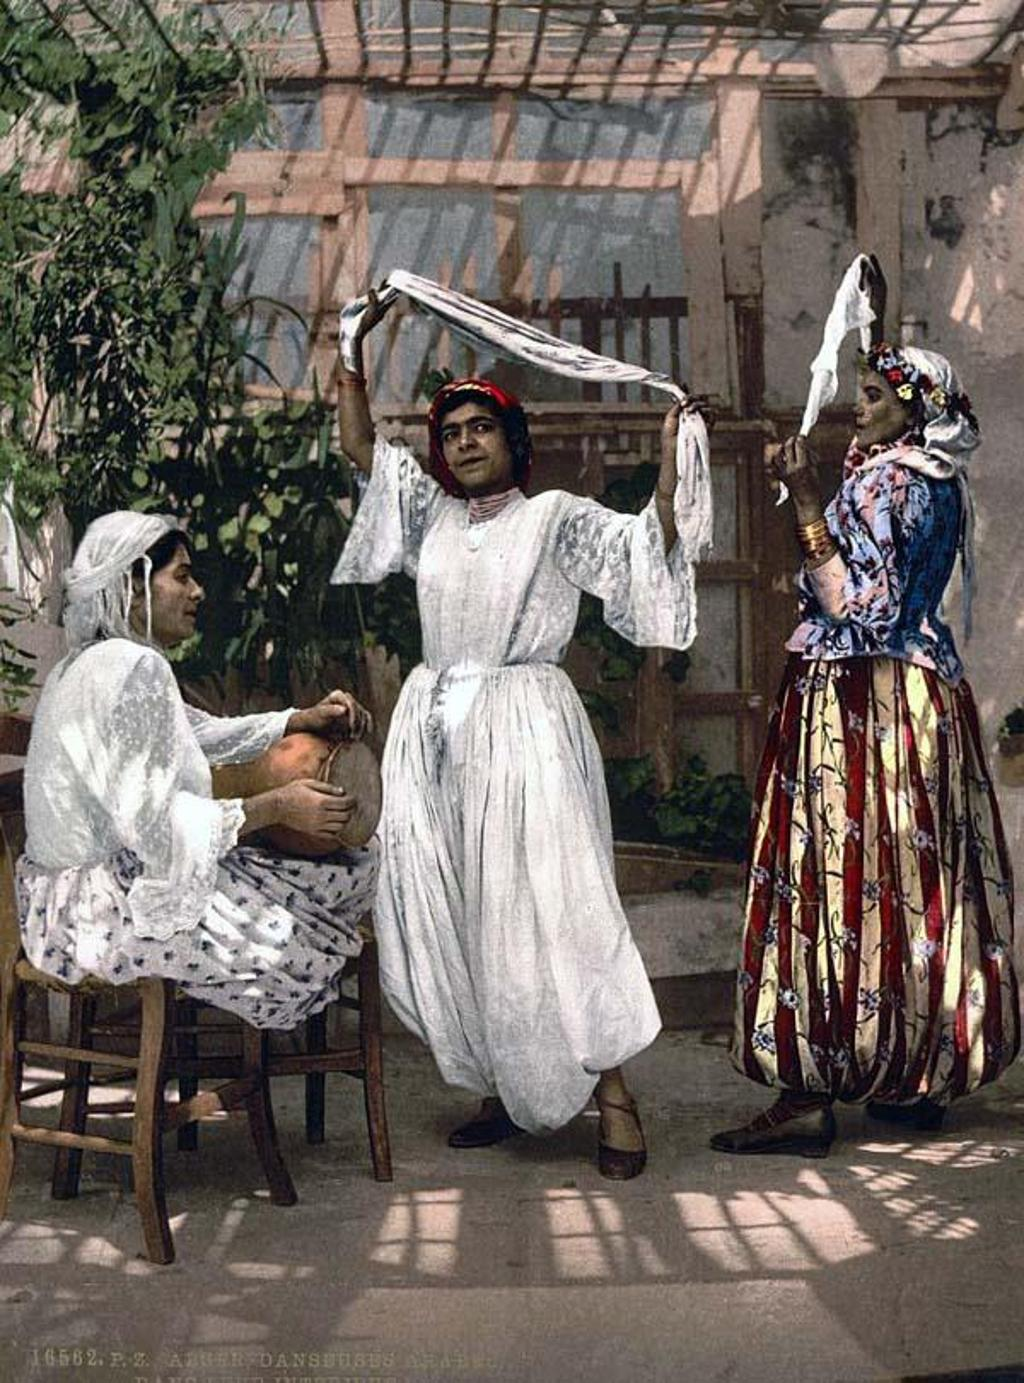face: (440, 389, 505, 489), (149, 546, 208, 643), (851, 365, 902, 441)
